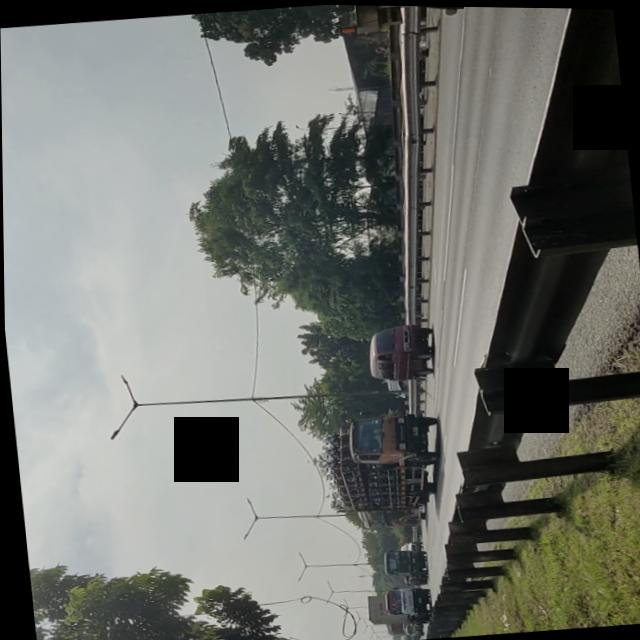Golongan I: (362, 320, 438, 383)
Golongan II: (338, 407, 442, 512)
